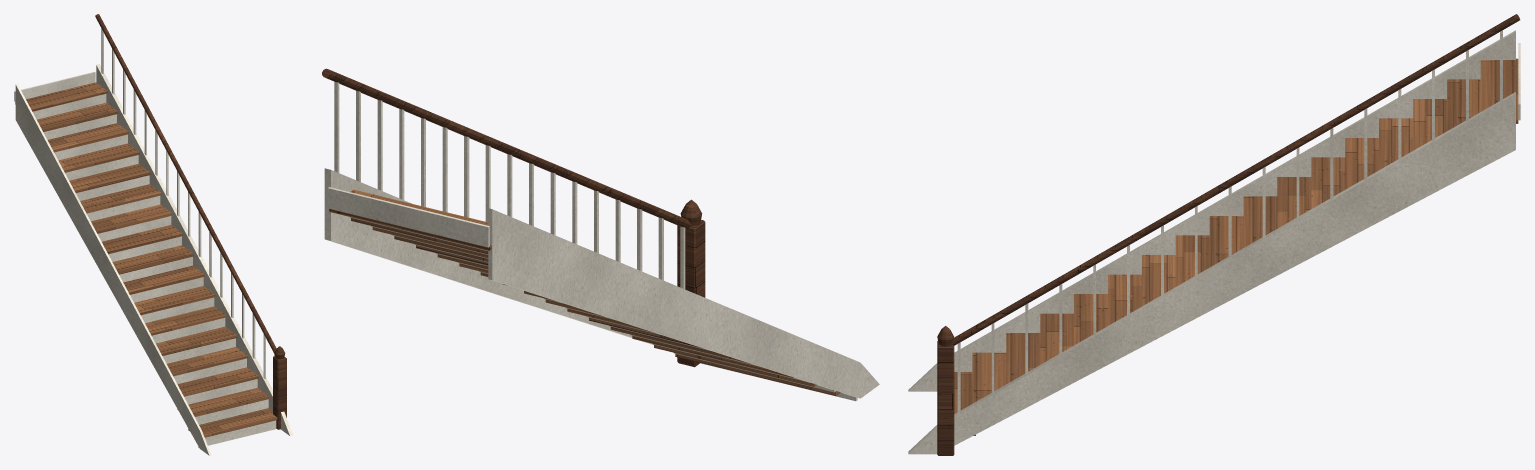
File: stair.glb
The picture shows the model from 3 angles, left to right: view 1: azimuth 30°, elevation 25°; view 2: azimuth 150°, elevation 25°; view 3: azimuth 270°, elevation 25°; orthographic projection. The views are drawn at different scales.
Parts seen in each view (by area): view 1: stair_trim, stair_floor, stair_wood; view 2: stair_trim, stair_floor, stair_wood; view 3: stair_trim, stair_floor, stair_wood.
Boxes of the visible parts, <box> form: stair_trim: <box>14,28,293,455</box>; stair_floor: <box>15,82,277,437</box>; stair_wood: <box>95,14,286,429</box>; stair_trim: <box>324,81,879,401</box>; stair_floor: <box>329,189,840,395</box>; stair_wood: <box>322,68,705,367</box>; stair_trim: <box>908,30,1520,454</box>; stair_floor: <box>954,58,1518,435</box>; stair_wood: <box>937,14,1520,455</box>.
Bounding box in the file's own units: 1.3 × 4 × 5.06.
3 materials, 3 textured.
